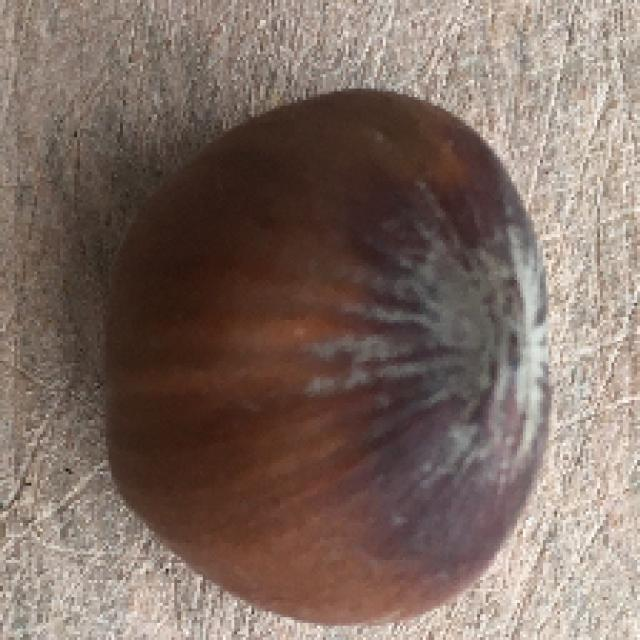DamagedHazelnut: (104, 97, 553, 626)
